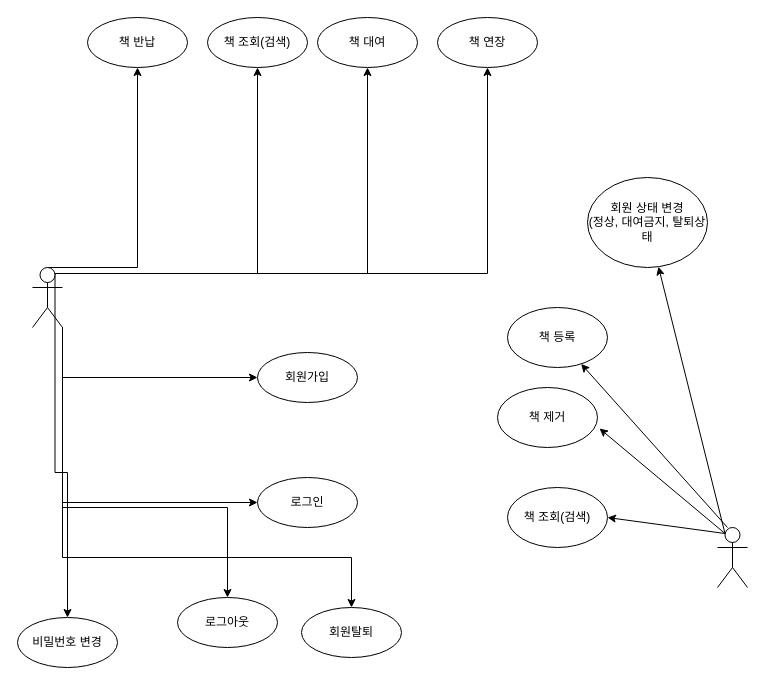
Some shapes in this 767 by 685 pixel diagram are drawn without their labels. The centre of each missing label's shape, as x and y in pixels:
"Admin" goes at point 732,557.
"USER" goes at point 47,297.
